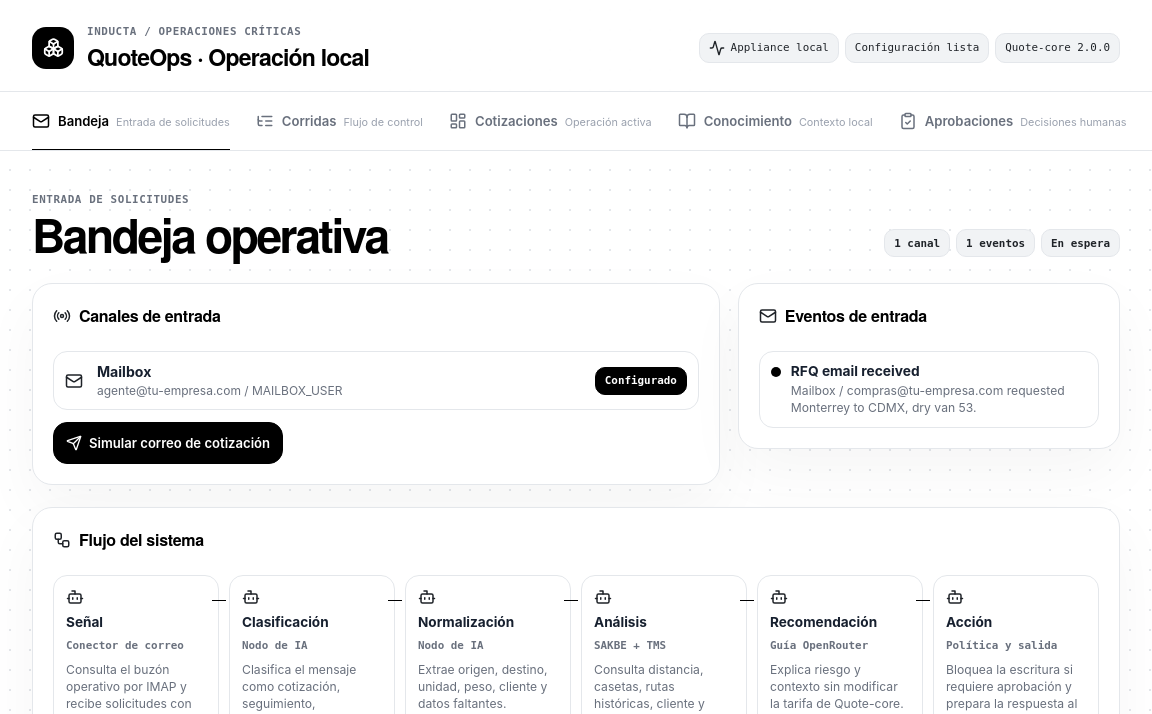
Test case: Separated product shells › opens the client appliance portal without Inducta multi-client onboarding
Expected: the heading "Bandeja operativa" is shown, [32,212,388,257]
Expected: the navigation bar named "Navegación del appliance" is shown, [0,92,1151,151]
Step 1. Click the button "Conocimiento Contexto local" → (775, 121), box [678,92,873,150]
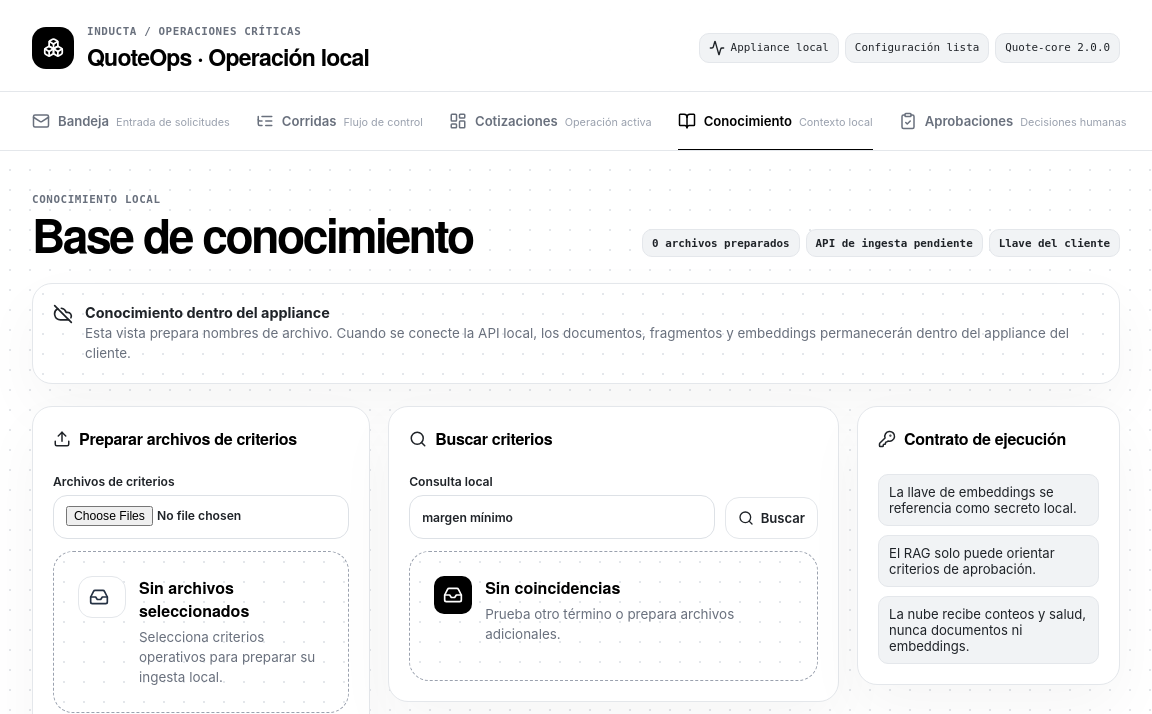
Result: the heading "Base de conocimiento" is shown at [32,212,473,257]
Result: the text "Llave del cliente" is shown at [989,229,1120,257]
